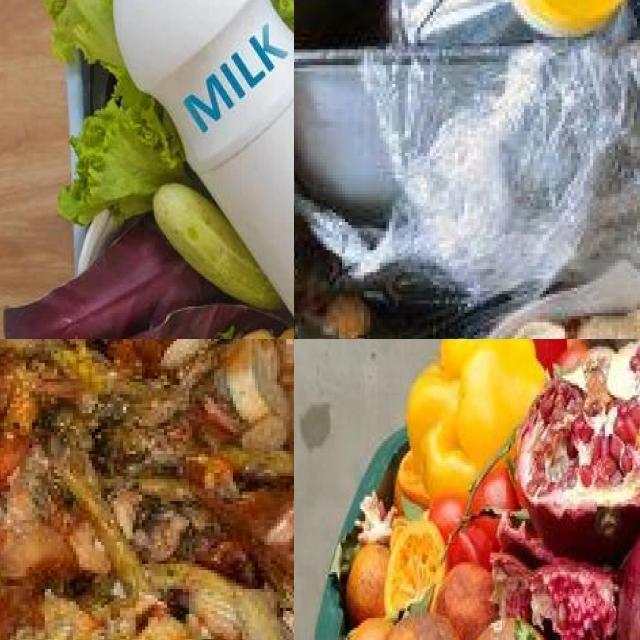Garbage: (294, 0, 640, 339), (0, 0, 294, 339), (319, 339, 640, 640), (0, 339, 294, 640)
Plastic_bottle: (114, 0, 294, 317)
contaminated_waste: (335, 21, 640, 313), (99, 0, 294, 332), (294, 0, 640, 151)
